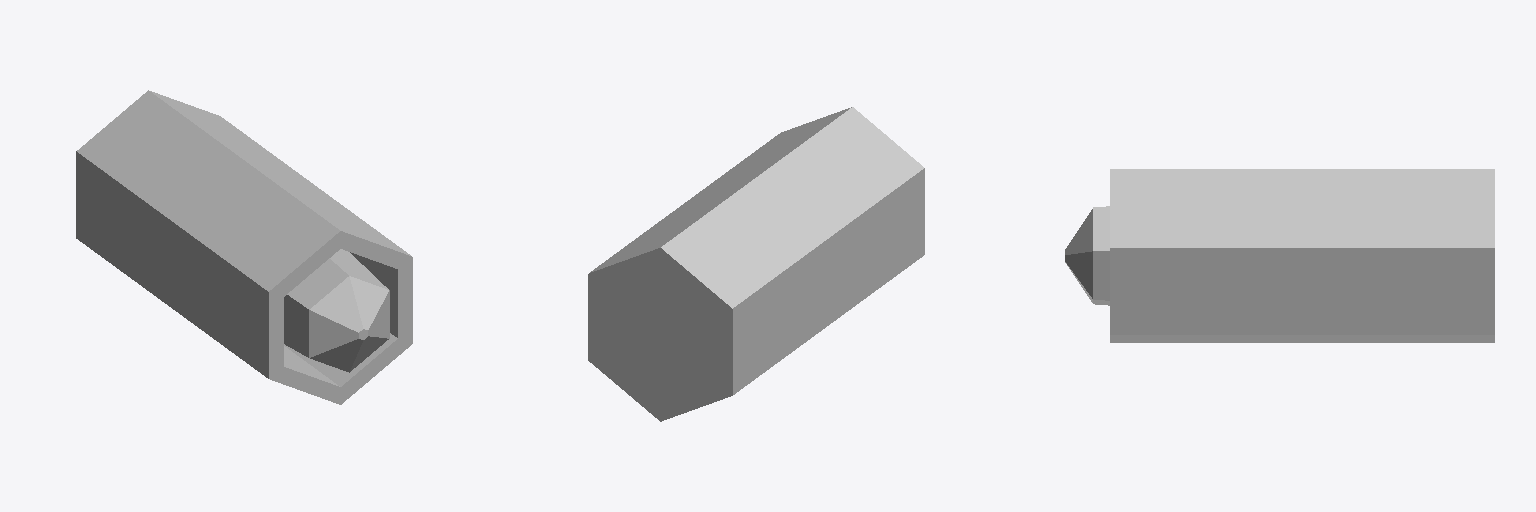
The model's file is rocketlauncher.obj.
3 renders of one model, left to right at view 1: azimuth 30°, elevation 25°; view 2: azimuth 150°, elevation 25°; view 3: azimuth 270°, elevation 25°, orthographic.
Parts seen in each view (by area): view 1: Rocket_Cylinder.001; view 2: Rocket_Cylinder.001; view 3: Rocket_Cylinder.001.
Part boxes in pixels (x1,y1,x2,y2): Rocket_Cylinder.001: (76, 90, 412, 404); Rocket_Cylinder.001: (588, 107, 924, 421); Rocket_Cylinder.001: (1065, 169, 1494, 342).
Size of the model in its own units: 0.866 by 1 by 2.24.